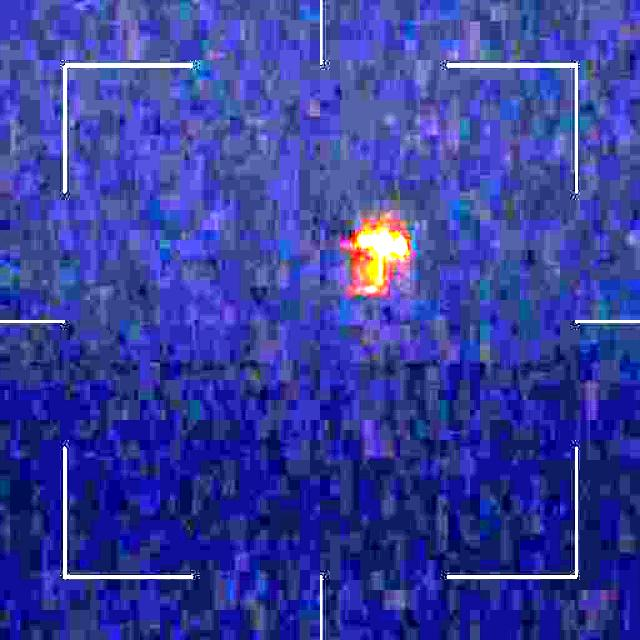bird: (330, 222, 409, 290)
